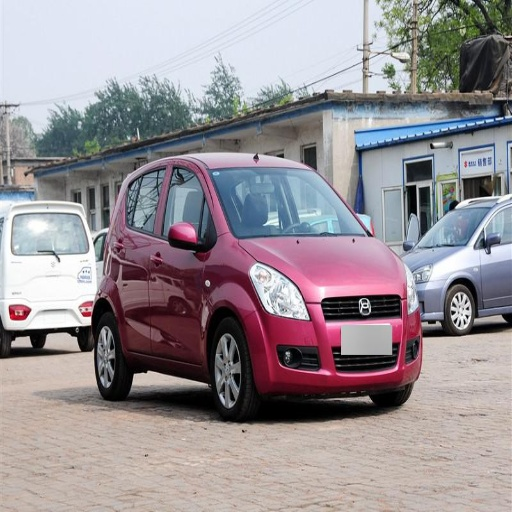front_bumper: (246, 294, 423, 399)
front_glass: (211, 168, 371, 237)
front_left_door: (476, 206, 511, 290)
front_right_door: (151, 160, 217, 364)
front_right_light: (251, 265, 309, 320)
